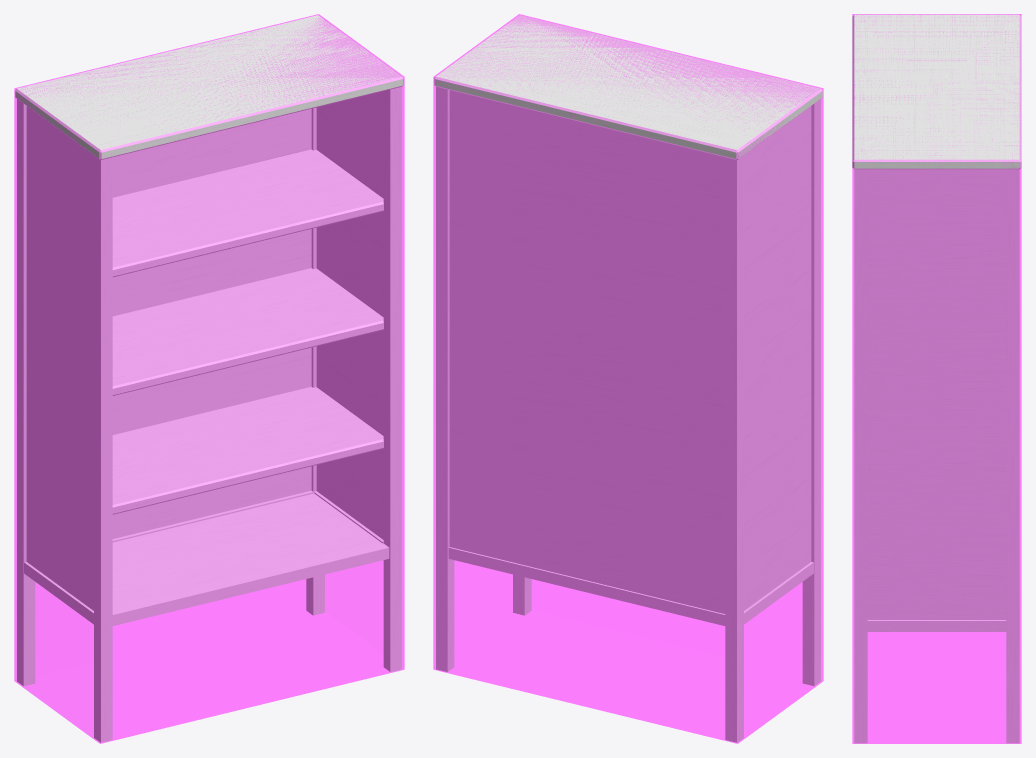
File: bookshelf_A.fbx
3 renders of one model, left to right at view 1: azimuth 30°, elevation 25°; view 2: azimuth 150°, elevation 25°; view 3: azimuth 270°, elevation 25°, orthographic.
Visible parts, largest first — view 1: boundingbox, bookshelf_A; view 2: boundingbox, bookshelf_A; view 3: bookshelf_A, boundingbox.
Part boxes in pixels (<box>): boundingbox: <box>14,14,404,743</box>; bookshelf_A: <box>15,15,403,742</box>; boundingbox: <box>433,14,823,743</box>; bookshelf_A: <box>434,15,822,742</box>; bookshelf_A: <box>852,14,1021,743</box>; boundingbox: <box>852,14,1021,743</box>.
Bounding box in the file's own units: 80.59 × 150 × 39.37.
2 materials, 1 textured.
